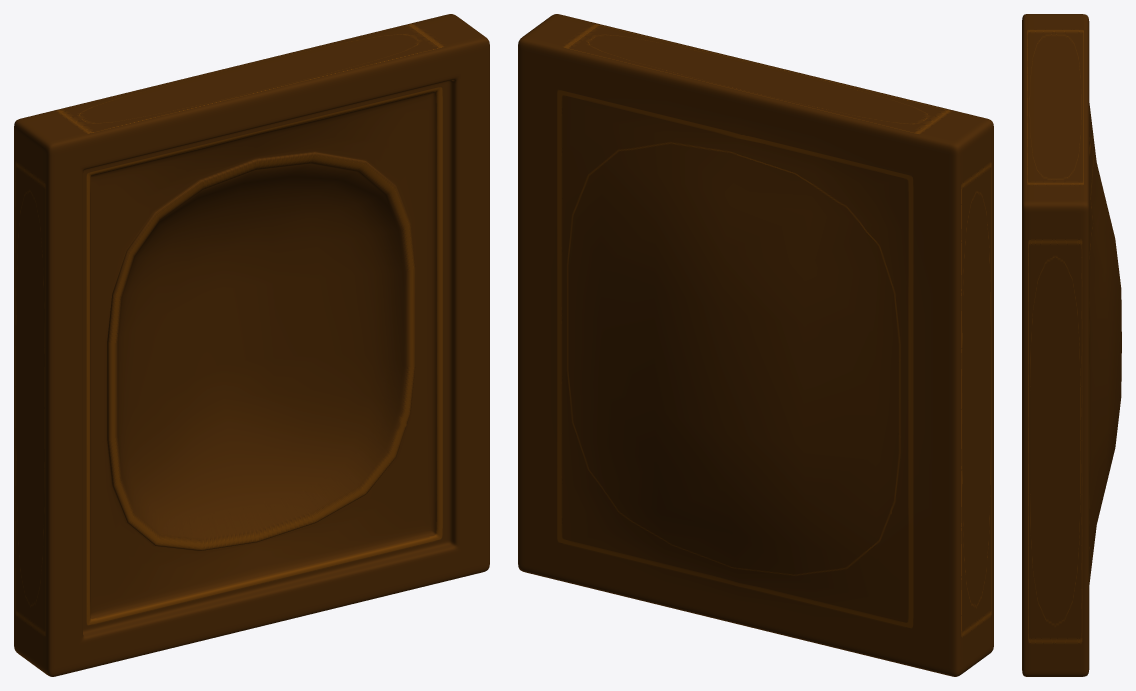
The model's file is whitekamin.glb.
3 renders of one model, left to right at view 1: azimuth 30°, elevation 25°; view 2: azimuth 150°, elevation 25°; view 3: azimuth 270°, elevation 25°, orthographic. The views are drawn at different scales.
Parts seen in each view (by area): view 1: Cube 1; view 2: Cube 1; view 3: Cube 1.
Boxes of the visible parts, bbox=[...] form: Cube 1: bbox=[14, 14, 489, 676]; Cube 1: bbox=[518, 14, 993, 676]; Cube 1: bbox=[1022, 14, 1121, 676].
Size of the model in its own units: 0.4439 by 0.5121 by 0.0976.
Materials: 1 (1 with a texture image).
